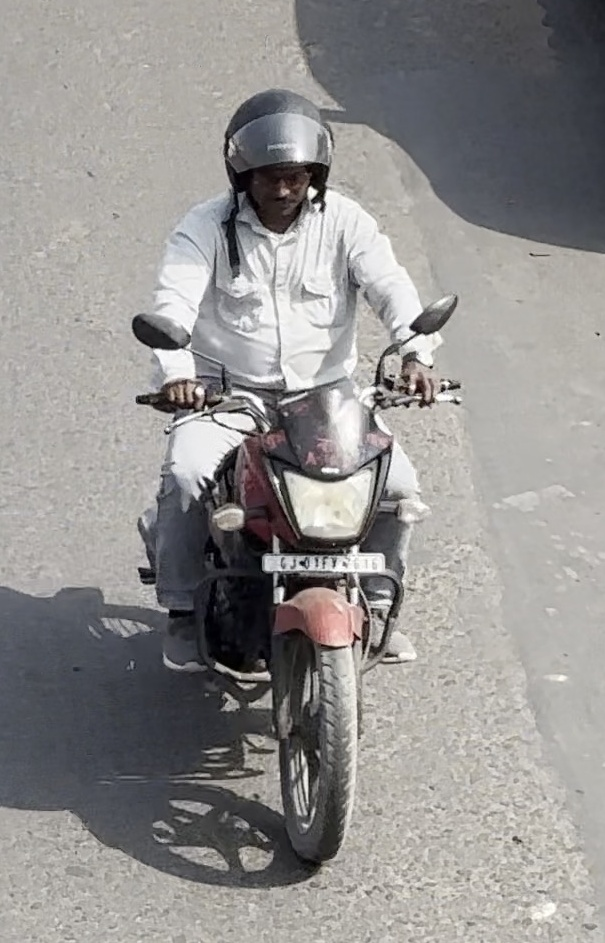BikeWithRider: (118, 78, 475, 873)
Helmet: (207, 80, 348, 229)
